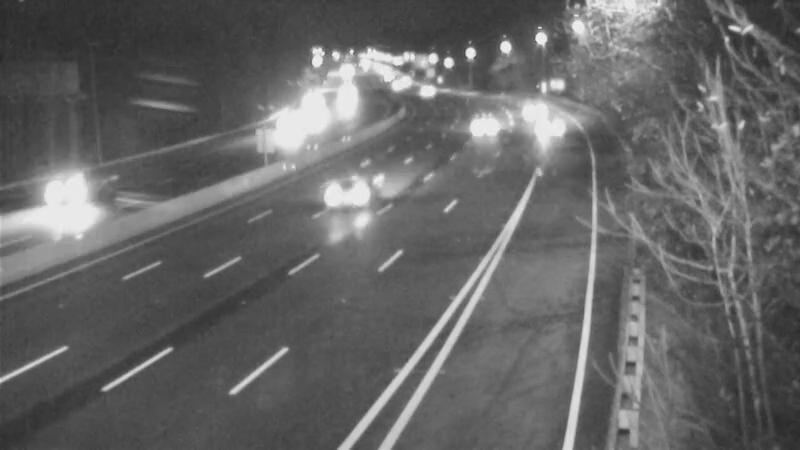vehicle: (317, 151, 397, 231), (21, 153, 101, 233), (397, 64, 447, 114), (504, 87, 554, 137), (524, 104, 574, 154), (460, 99, 510, 149), (264, 107, 314, 157), (289, 82, 339, 132), (319, 75, 369, 125)
